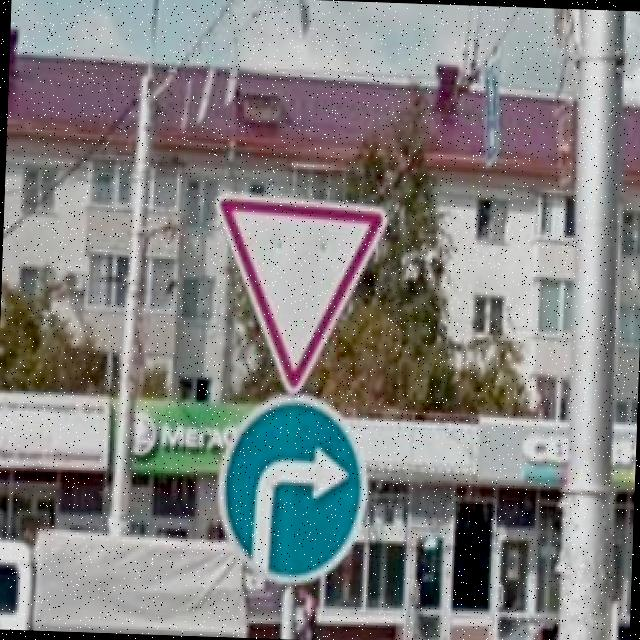Ustap pierwszenstwa: (208, 194, 391, 398)
